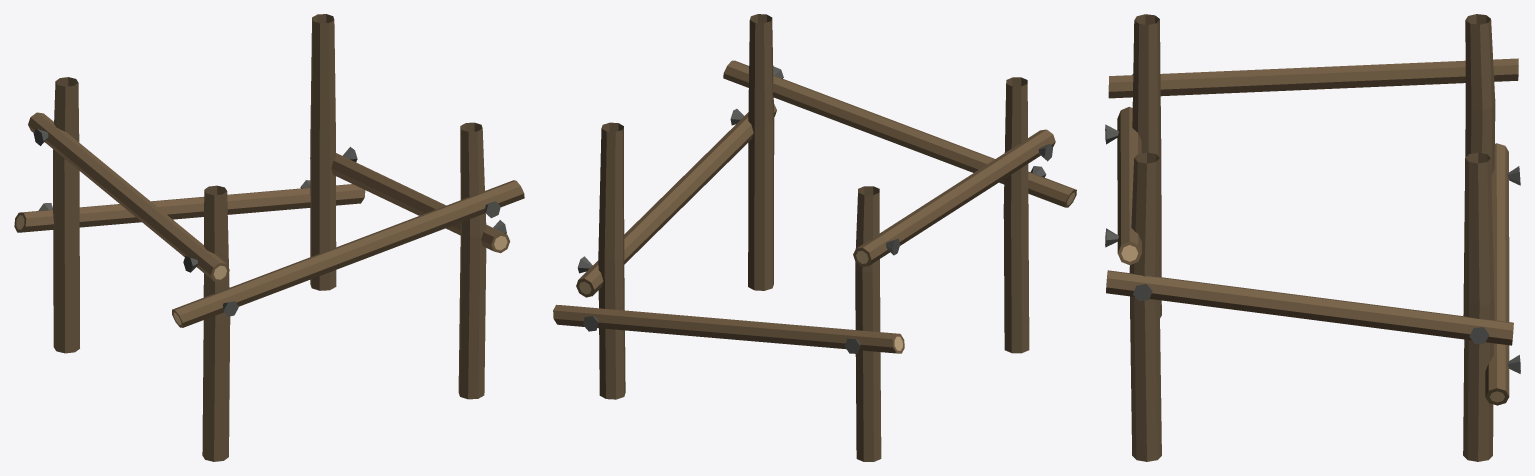
The model's file is rpgpp_ag_tower_01_support_01b.fbx.
3 views of the same model, side by side, from view 1: azimuth 30°, elevation 25°; view 2: azimuth 150°, elevation 25°; view 3: azimuth 270°, elevation 25° (orthographic). The views are drawn at different scales.
Visible parts, largest first — view 1: rpgpp_ag_tower_01_support_01b; view 2: rpgpp_ag_tower_01_support_01b; view 3: rpgpp_ag_tower_01_support_01b.
Part boxes in pixels (x1,y1,x2,y2): rpgpp_ag_tower_01_support_01b: [14, 14, 524, 461]; rpgpp_ag_tower_01_support_01b: [553, 14, 1076, 461]; rpgpp_ag_tower_01_support_01b: [1105, 14, 1520, 461].
Size of the model in its own units: 5.36 by 3.87 by 4.9.
